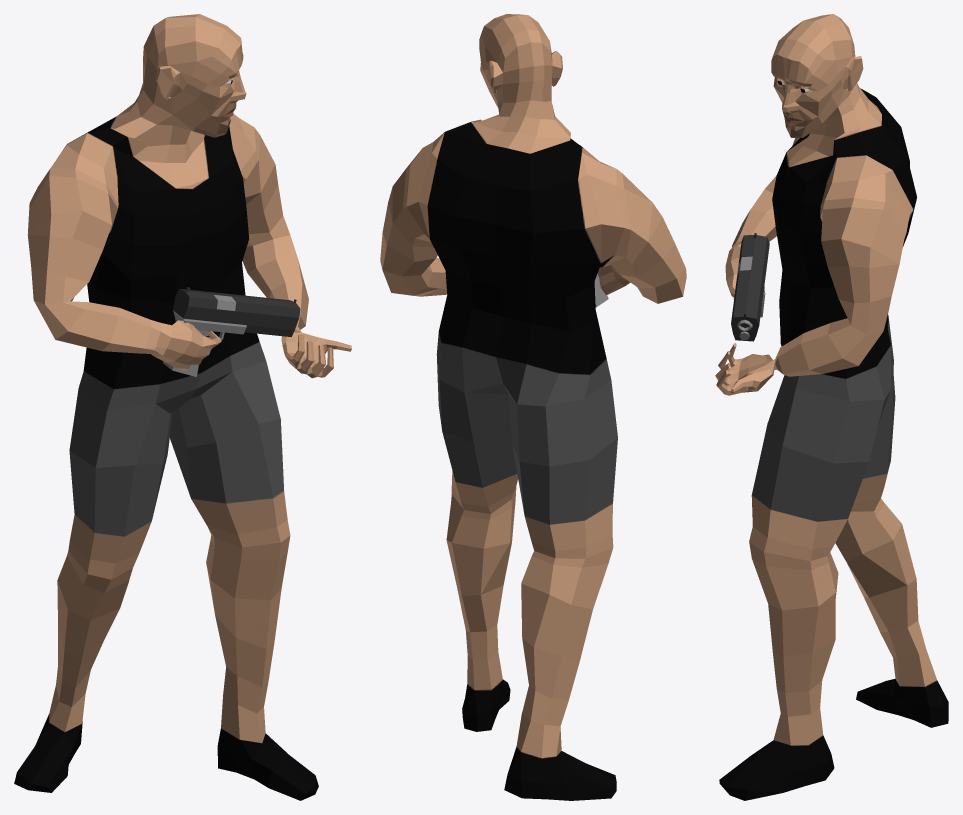
File: PlayerIdle(132).obj
3 views of the same model, side by side, from view 1: azimuth 30°, elevation 25°; view 2: azimuth 150°, elevation 25°; view 3: azimuth 270°, elevation 25° (orthographic). The views are drawn at different scales.
Visible parts, largest first — view 1: Plane002, Box003; view 2: Plane002; view 3: Plane002, Box003.
Boxes of the visible parts, x1,y1,x2,y2 form: Plane002: (14, 14, 351, 800); Box003: (163, 287, 300, 376); Plane002: (380, 14, 686, 800); Plane002: (715, 14, 948, 800); Box003: (731, 233, 769, 341).
Bounding box in the file's own units: 698 × 1794 × 514.
